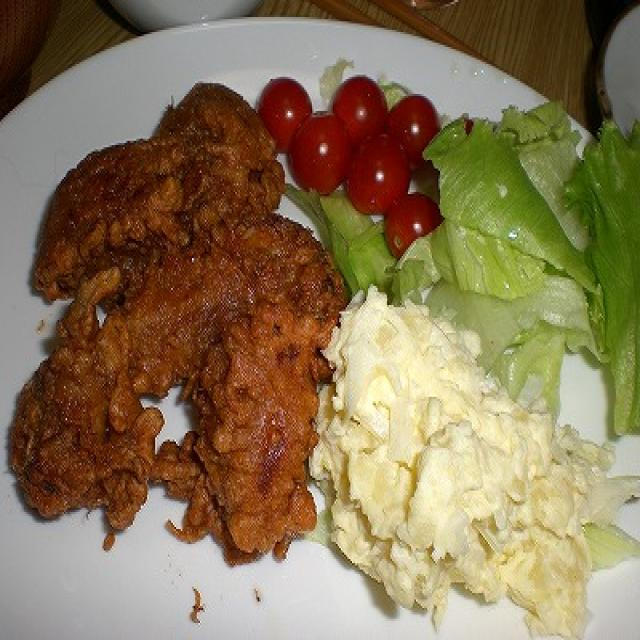鸡肉料理 含炸鸡: (0, 0, 366, 640)
